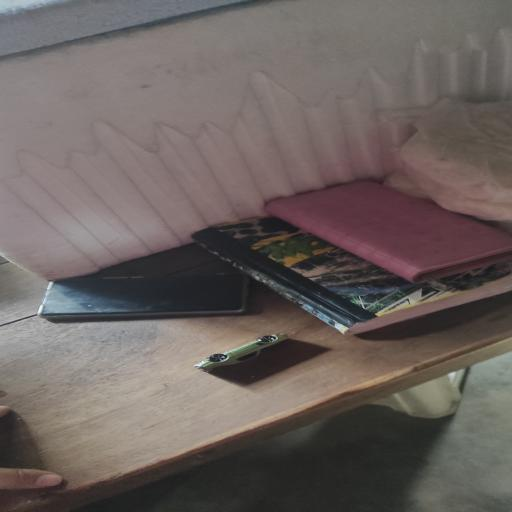Carrito: (194, 334, 288, 372)
